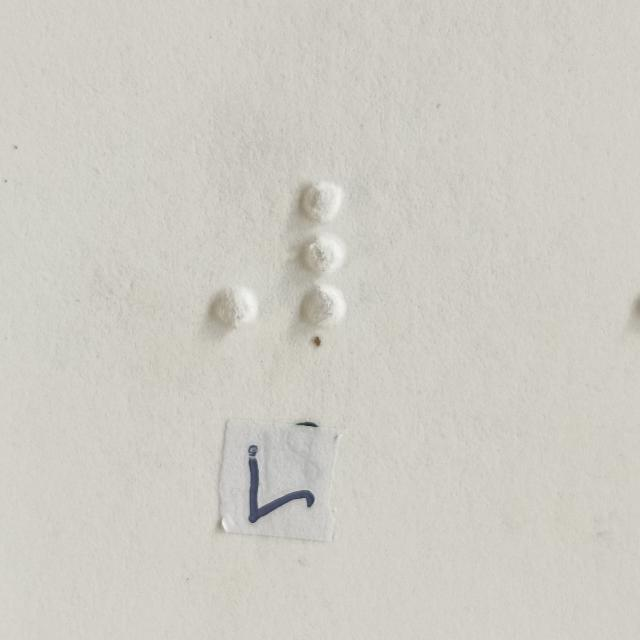L: (303, 183, 398, 325)
capital: (165, 185, 260, 327)
